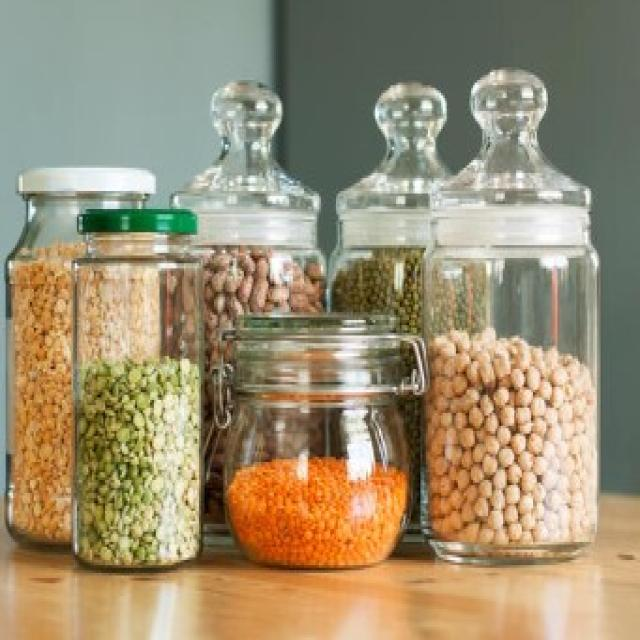electronic: (6, 72, 605, 569)
